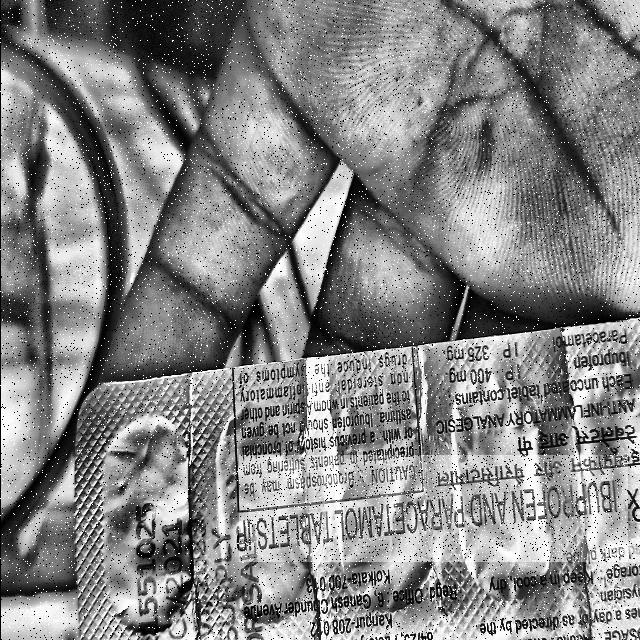IBUPROFEN AND PARACETAMOL TABLETS: (238, 456, 626, 562)
